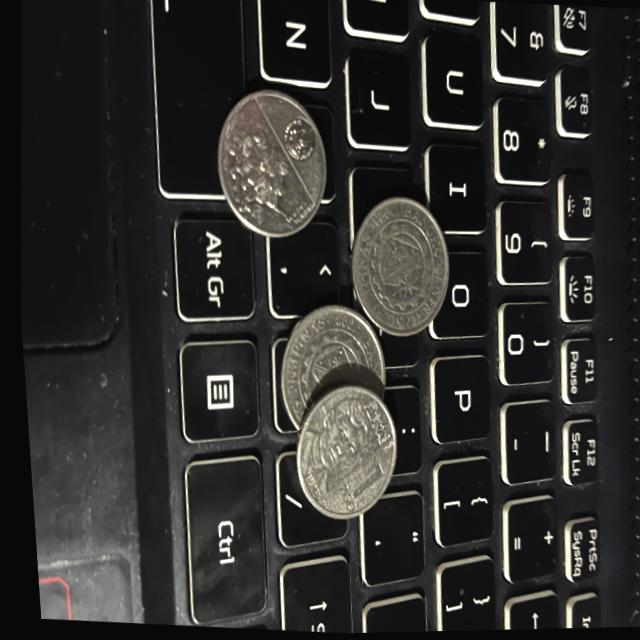1_New_Back: (220, 123, 307, 234)
1_New_Front: (322, 461, 379, 520)
1_Old_Back: (272, 300, 388, 444), (341, 196, 450, 333)
